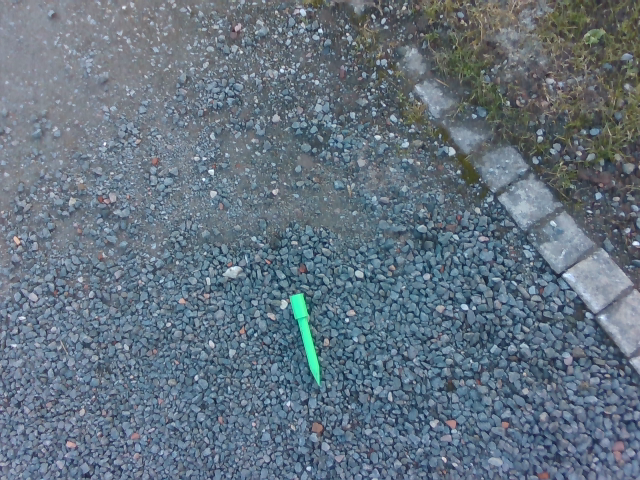Probe: (286, 289, 325, 389)
